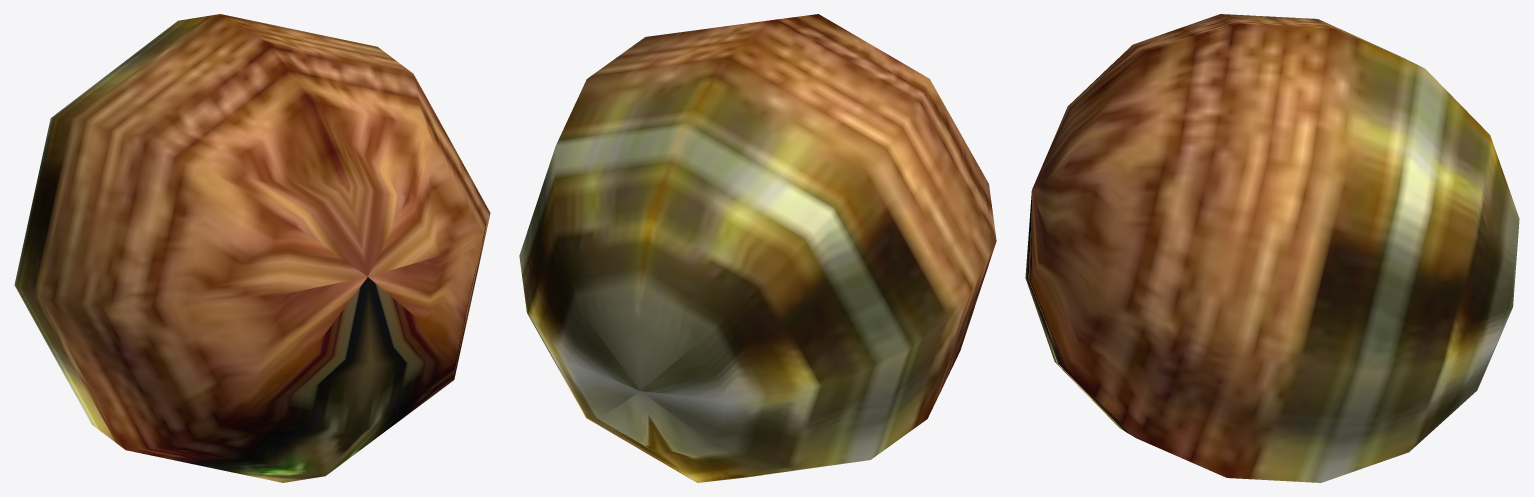
The model's file is wand_s__2_angel_stick_angel_stick.glb.
The picture shows the model from 3 angles, left to right: view 1: azimuth 30°, elevation 25°; view 2: azimuth 150°, elevation 25°; view 3: azimuth 270°, elevation 25°; orthographic projection. The views are drawn at different scales.
Bounding box in the file's own units: 0.0751 × 0.0745 × 0.0742.
1 material, 1 textured.
